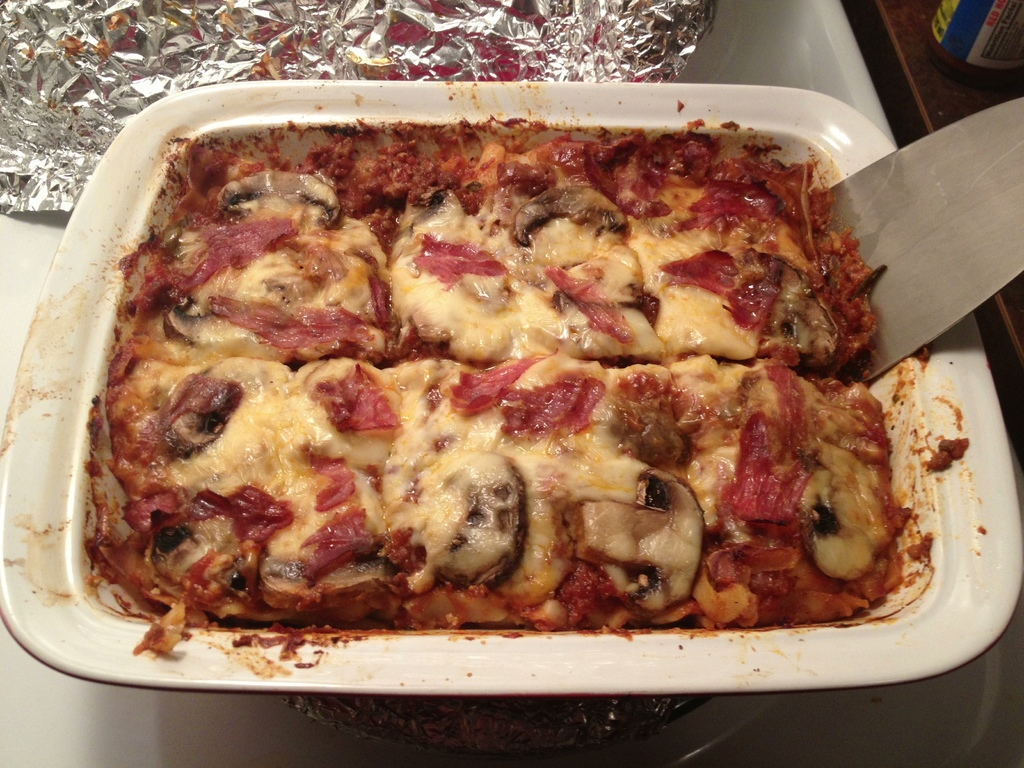Pizza: (39, 119, 936, 681)
